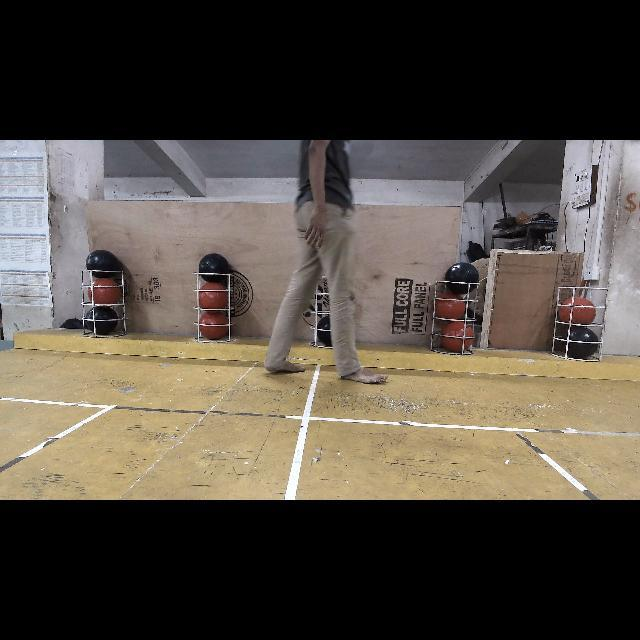P: (445, 262, 480, 295), (565, 329, 597, 361), (85, 250, 119, 279), (85, 306, 117, 334), (198, 254, 228, 283), (318, 316, 330, 346)
R: (441, 322, 473, 354), (560, 298, 596, 326), (434, 293, 466, 323), (88, 278, 122, 304), (197, 284, 230, 310), (200, 312, 230, 336)
S: (552, 283, 606, 361), (192, 260, 236, 344), (430, 278, 478, 354), (82, 259, 126, 337), (314, 294, 331, 348)
